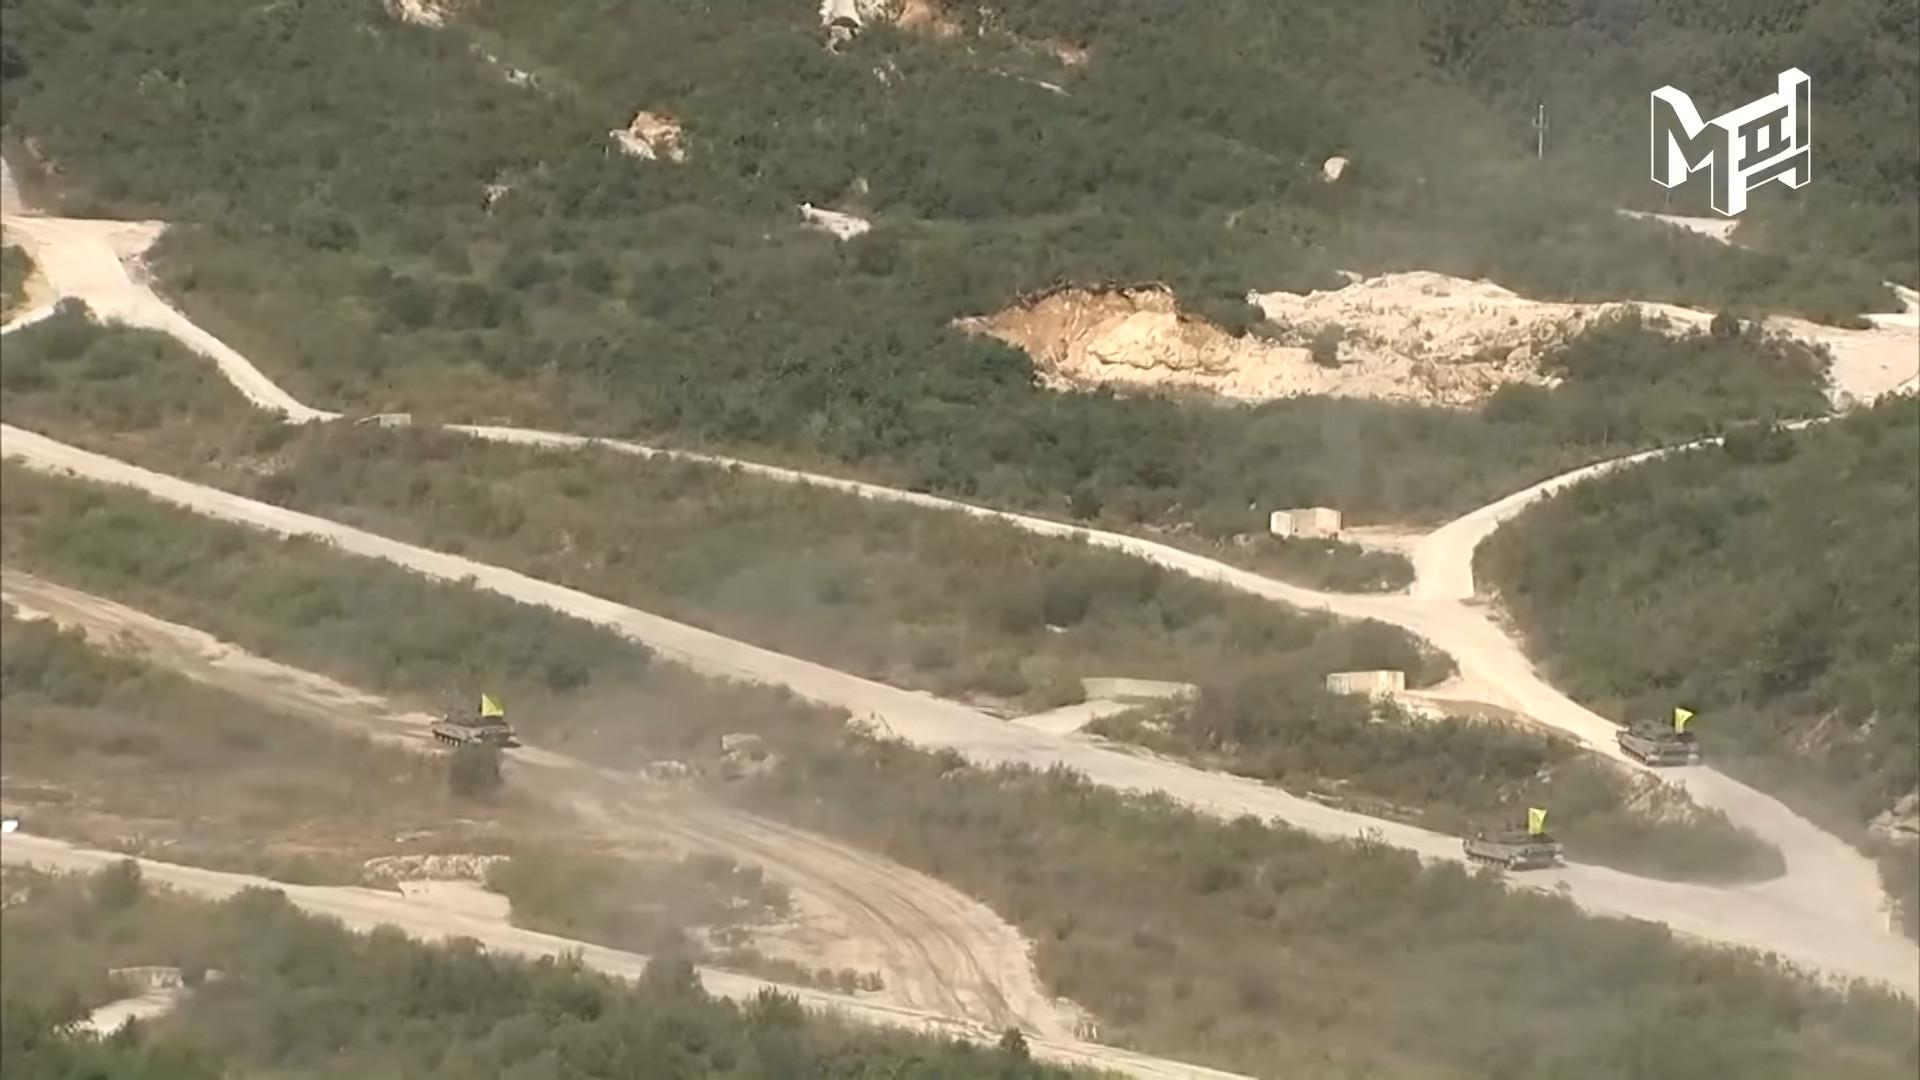tank: (1455, 823, 1565, 869), (1614, 716, 1700, 765), (427, 708, 517, 749)
